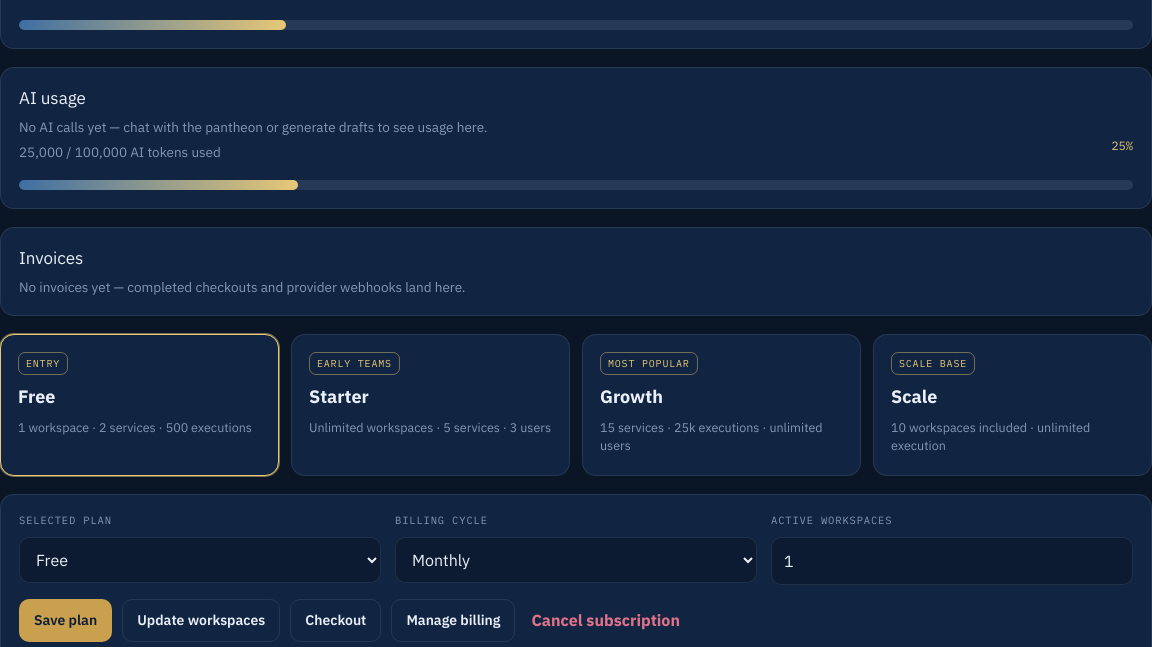
Test: BillingScreen › changes the plan
(page scrolled)
Select "Growth" in the dropdown labelled "plan" at [200, 560], box [19, 536, 381, 582]
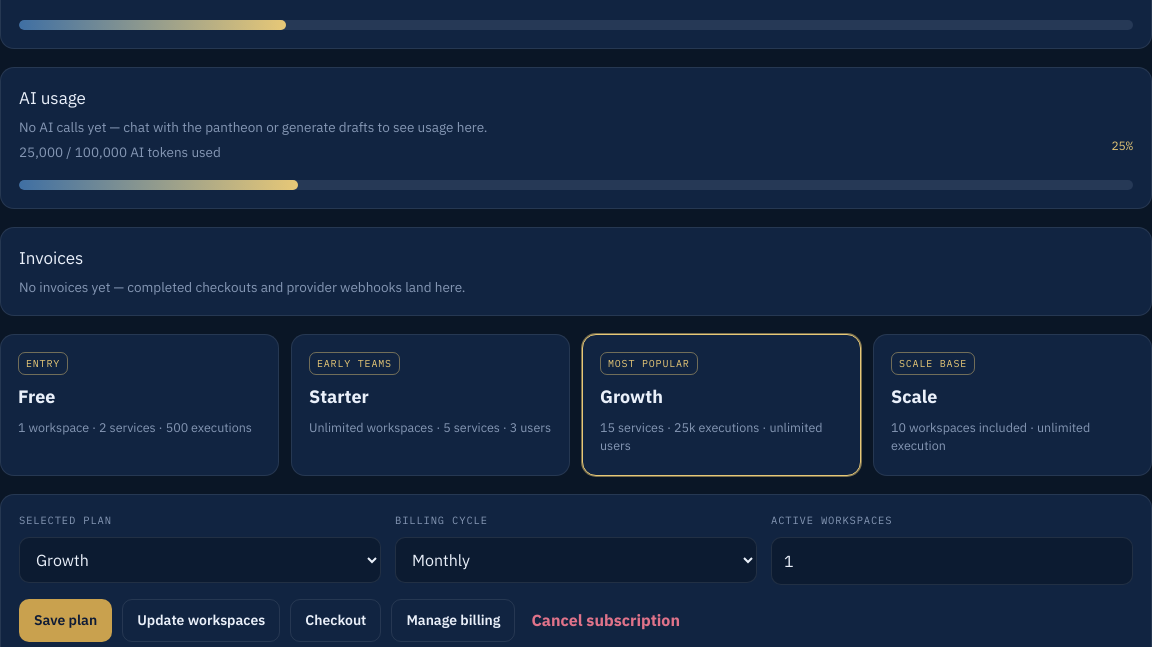
Click the button "Save plan" at [66, 620], box [19, 598, 112, 642]
(page scrolled)
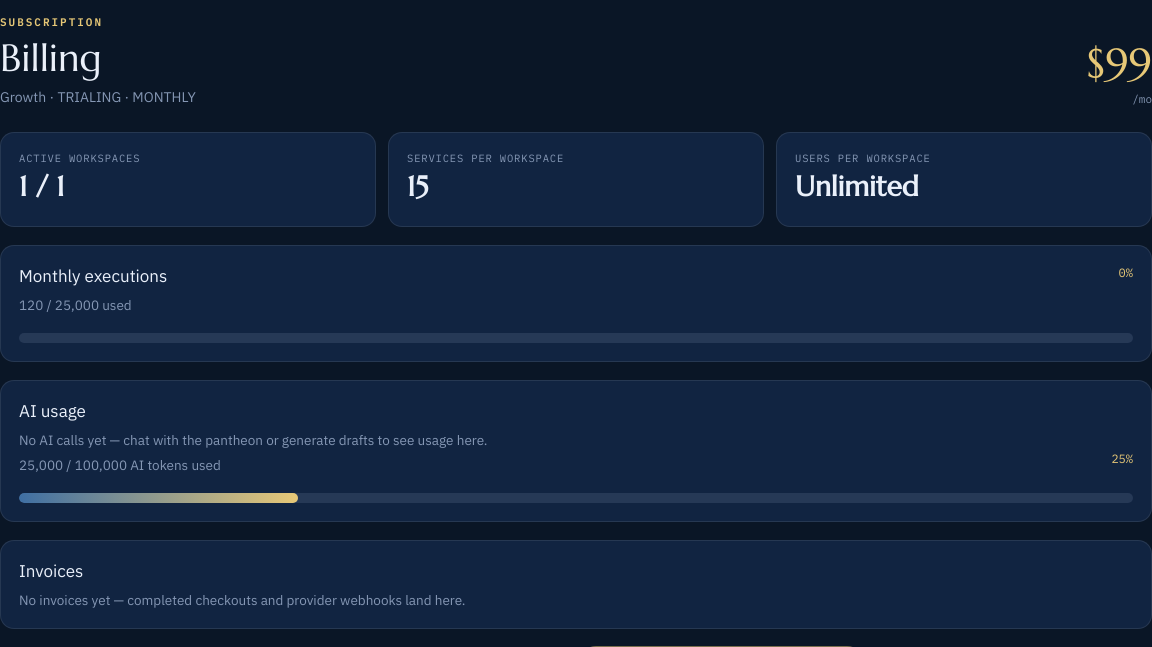
Now the text "Growth · TRIALING · MONTHLY" is shown, box [0, 86, 196, 108]
